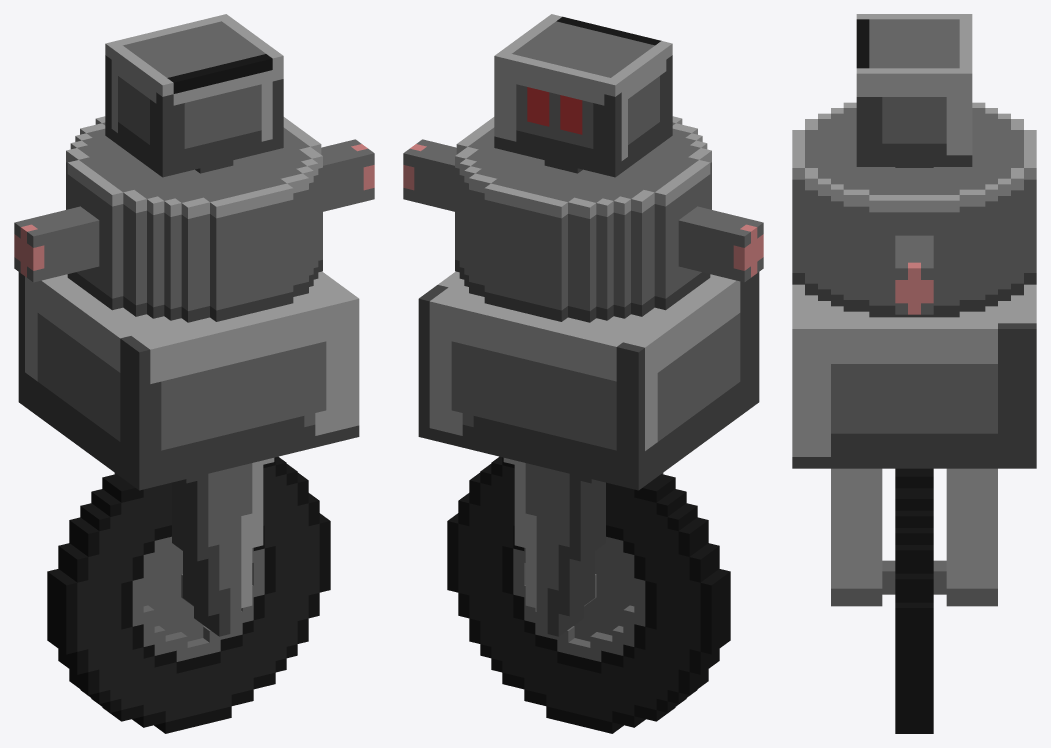
Rendered from Wheely.fbx.
3 views of the same model, side by side, from view 1: azimuth 30°, elevation 25°; view 2: azimuth 150°, elevation 25°; view 3: azimuth 270°, elevation 25° (orthographic).
Parts seen in each view (by area): view 1: ObjObject.002, ObjObject, ObjObject.001, ObjObject.003; view 2: ObjObject.002, ObjObject, ObjObject.001, ObjObject.003; view 3: ObjObject.002, ObjObject.001, ObjObject.003, ObjObject.
Part boxes in pixels (x1=…): ObjObject.002: x1=18, y1=271, x2=359, y2=636; ObjObject: x1=47, y1=456, x2=330, y2=733; ObjObject.001: x1=14, y1=116, x2=374, y2=322; ObjObject.003: x1=105, y1=14, x2=283, y2=177; ObjObject.002: x1=418, y1=271, x2=759, y2=636; ObjObject: x1=447, y1=456, x2=730, y2=733; ObjObject.001: x1=403, y1=116, x2=763, y2=322; ObjObject.003: x1=494, y1=14, x2=672, y2=177; ObjObject.002: x1=792, y1=284, x2=1036, y2=606; ObjObject.001: x1=792, y1=102, x2=1036, y2=317; ObjObject.003: x1=856, y1=14, x2=972, y2=166; ObjObject: x1=882, y1=468, x2=946, y2=733.
Bounding box in the file's own units: 1260 × 2357 × 772.
